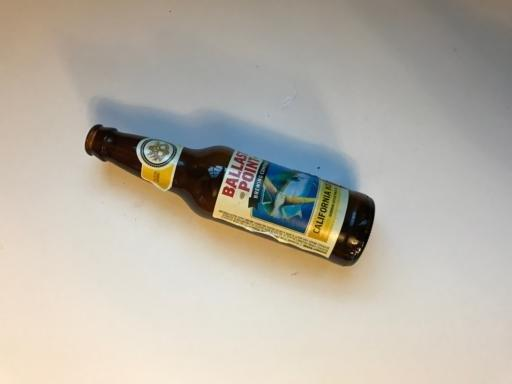botolkaca: (85, 125, 375, 267)
